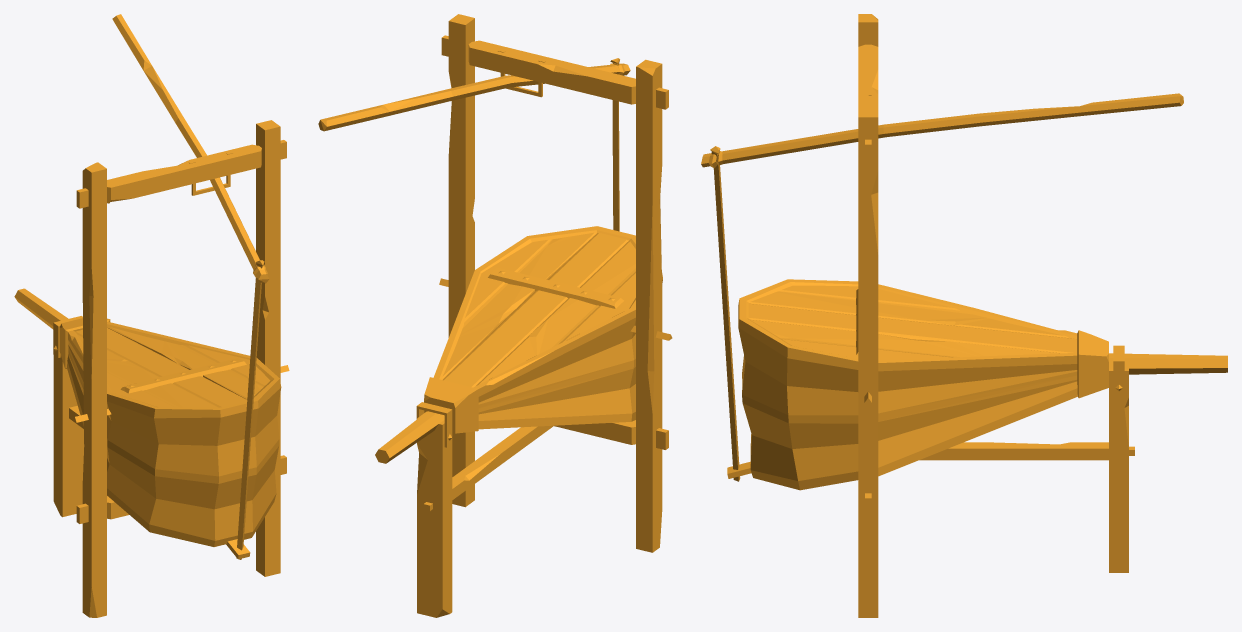
File: SM_Bellows_Big.fbx
The picture shows the model from 3 angles, left to right: view 1: azimuth 30°, elevation 25°; view 2: azimuth 150°, elevation 25°; view 3: azimuth 270°, elevation 25°; orthographic projection. The views are drawn at different scales.
Visible parts, largest first — view 1: bellows-big; view 2: bellows-big; view 3: bellows-big.
Boxes of the visible parts, bbox=[...] form: bellows-big: bbox=[14, 14, 289, 617]; bellows-big: bbox=[318, 14, 672, 617]; bellows-big: bbox=[701, 14, 1227, 617].
Size of the model in its own units: 0.9616 by 1.98 by 1.84.
